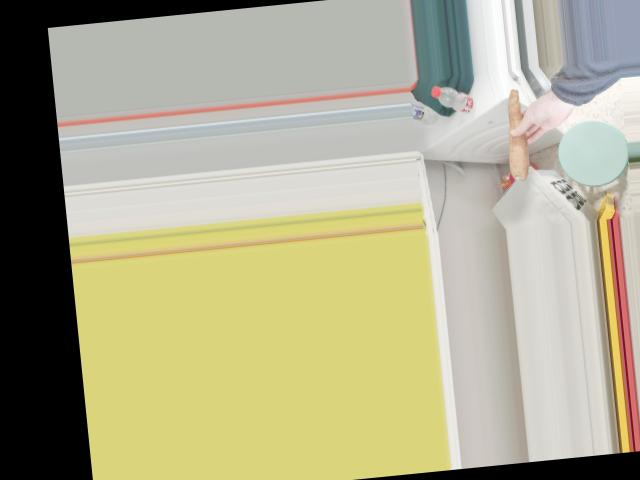sweet_potato: (500, 86, 538, 179)
